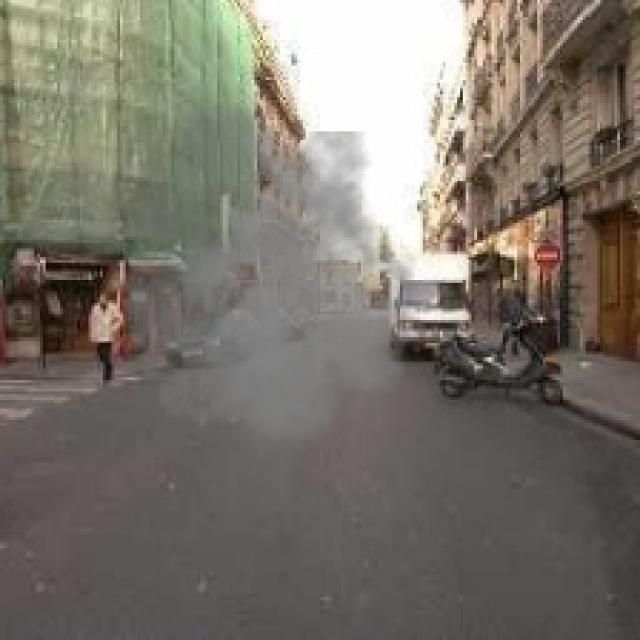smoke: (17, 86, 429, 468)
